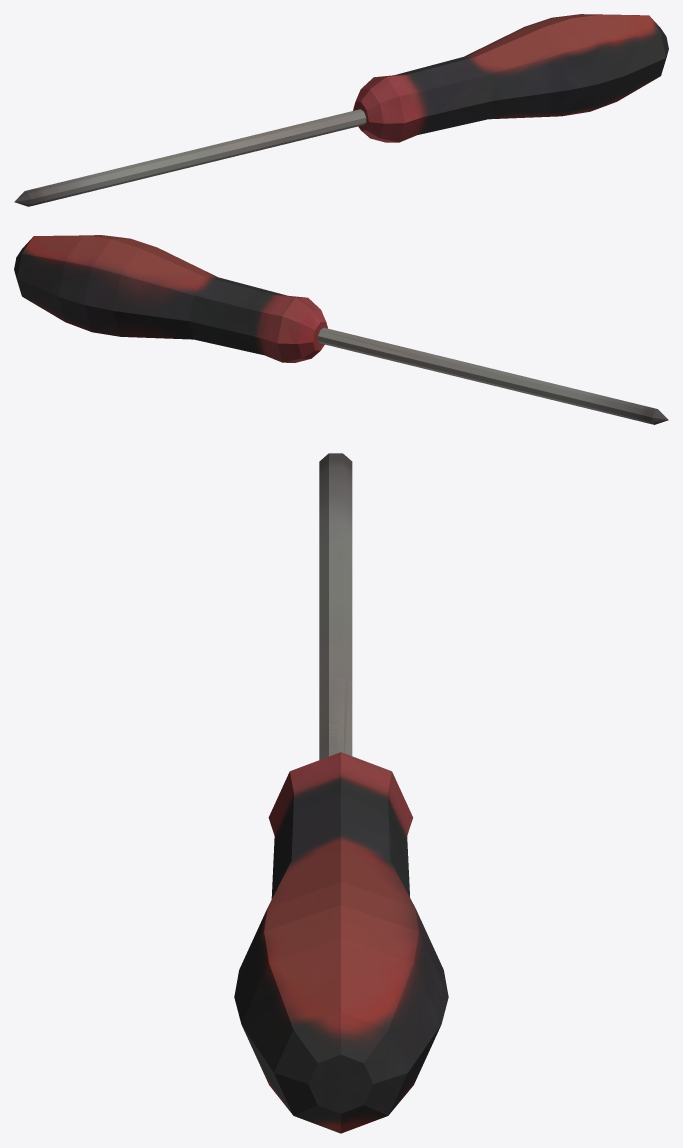
Rendered from FlatHeadScrewDriver.fbx.
3 views of the same model, one above another, from view 1: azimuth 30°, elevation 25°; view 2: azimuth 150°, elevation 25°; view 3: azimuth 270°, elevation 25° (orthographic). The views are drawn at different scales.
Parts seen in each view (by area): view 1: F_screwHandle; view 2: F_screwHandle; view 3: F_screwHandle.
Part boxes in pixels (x1,y1,x2,y2): F_screwHandle: (14,14,668,206); F_screwHandle: (14,235,668,424); F_screwHandle: (234,453,448,1133).
Size of the model in its own units: 0.8196 by 0.1121 by 0.1179.
